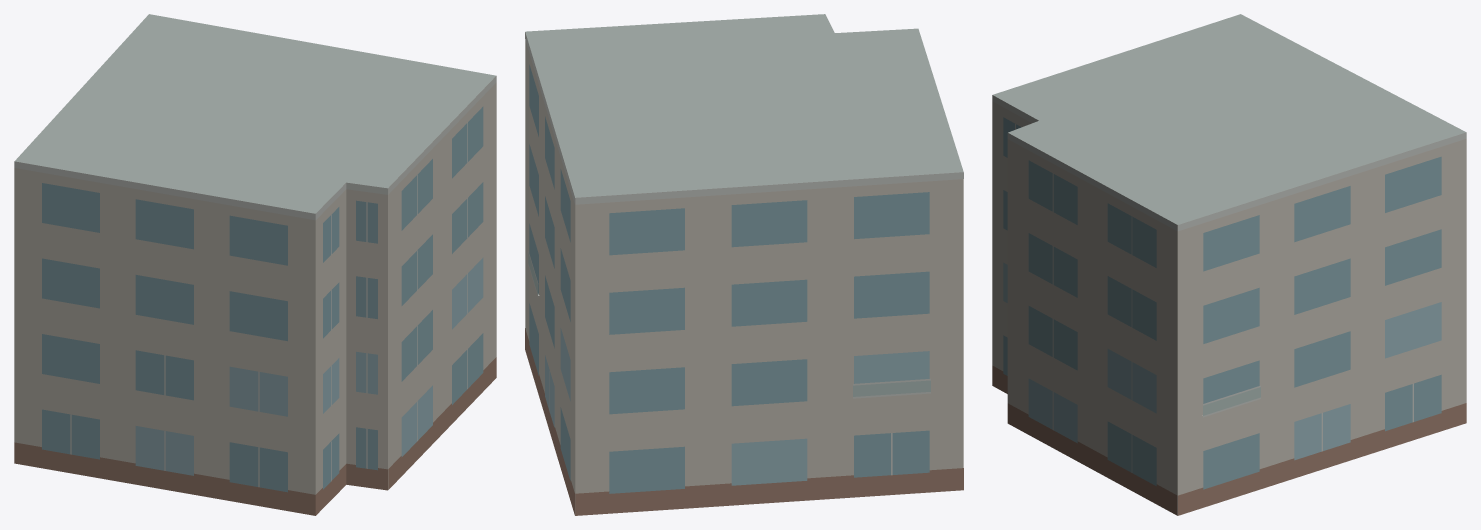
Rendered from survey-upis-32723305.glb.
The picture shows the model from 3 angles, left to right: view 1: azimuth 30°, elevation 25°; view 2: azimuth 150°, elevation 25°; view 3: azimuth 270°, elevation 25°; orthographic projection. The views are drawn at different scales.
Parts seen in each view (by area): view 1: survey-upis-32723305.tmp; view 2: survey-upis-32723305.tmp; view 3: survey-upis-32723305.tmp.
Part boxes in pixels (x1,y1,x2,y2): survey-upis-32723305.tmp: (14, 14, 496, 515); survey-upis-32723305.tmp: (525, 14, 963, 515); survey-upis-32723305.tmp: (992, 14, 1466, 515).
Size of the model in its own units: 17.44 by 11.2 by 16.56.
